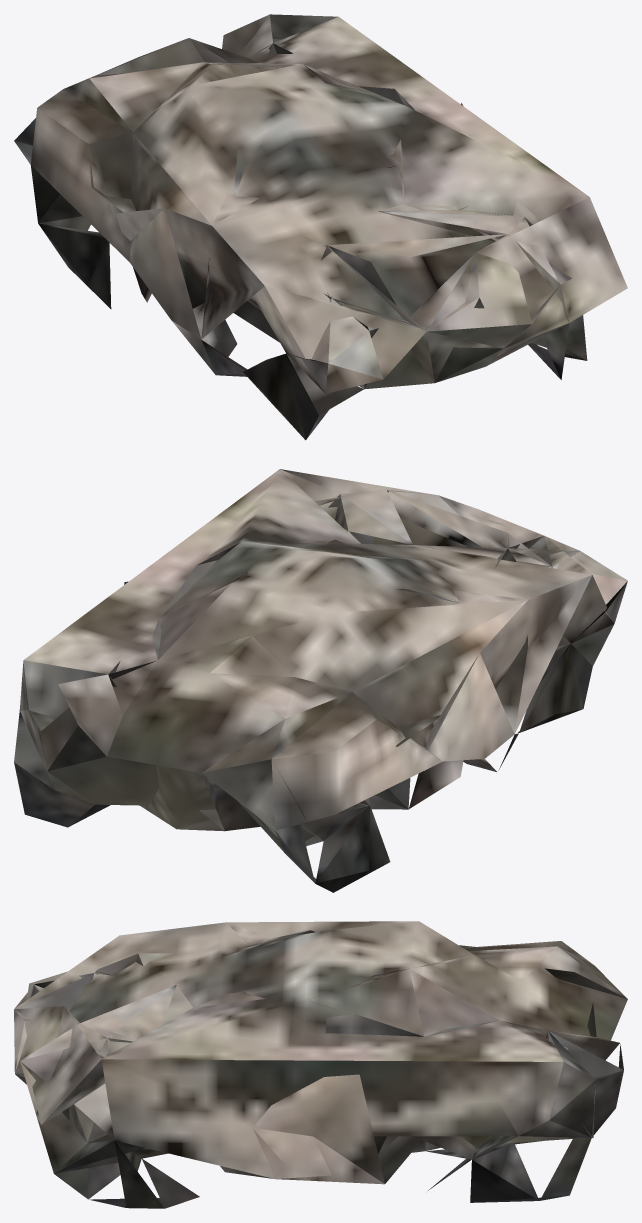
File: deploy_cover_1497690636_lod1.glb
3 renders of one model, top to bottom at view 1: azimuth 30°, elevation 25°; view 2: azimuth 150°, elevation 25°; view 3: azimuth 270°, elevation 25°, orthographic. The views are drawn at different scales.
Size of the model in its own units: 1.45 by 0.9601 by 2.56.
1 material, 1 textured.
